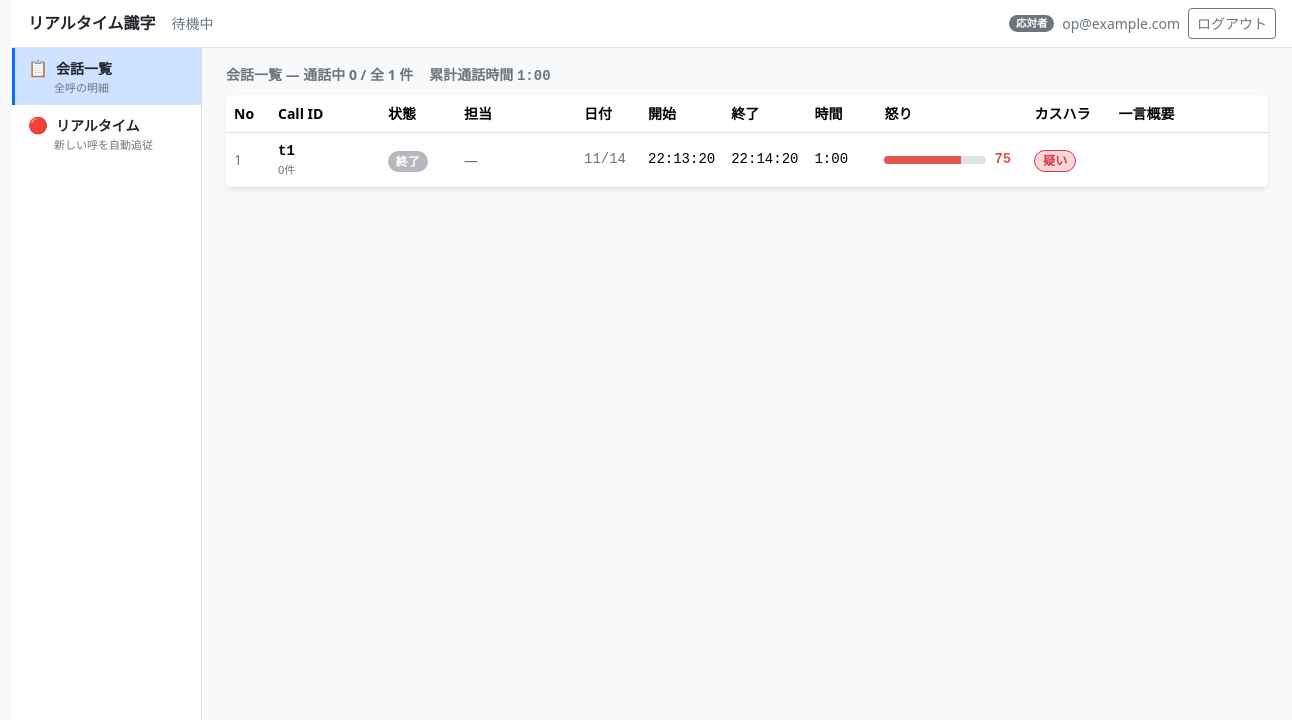
応対者ビュー › アラートが出ても音は鳴らない
Click the button with test id "call-t1": x=747, y=160 [226,132,1268,187]
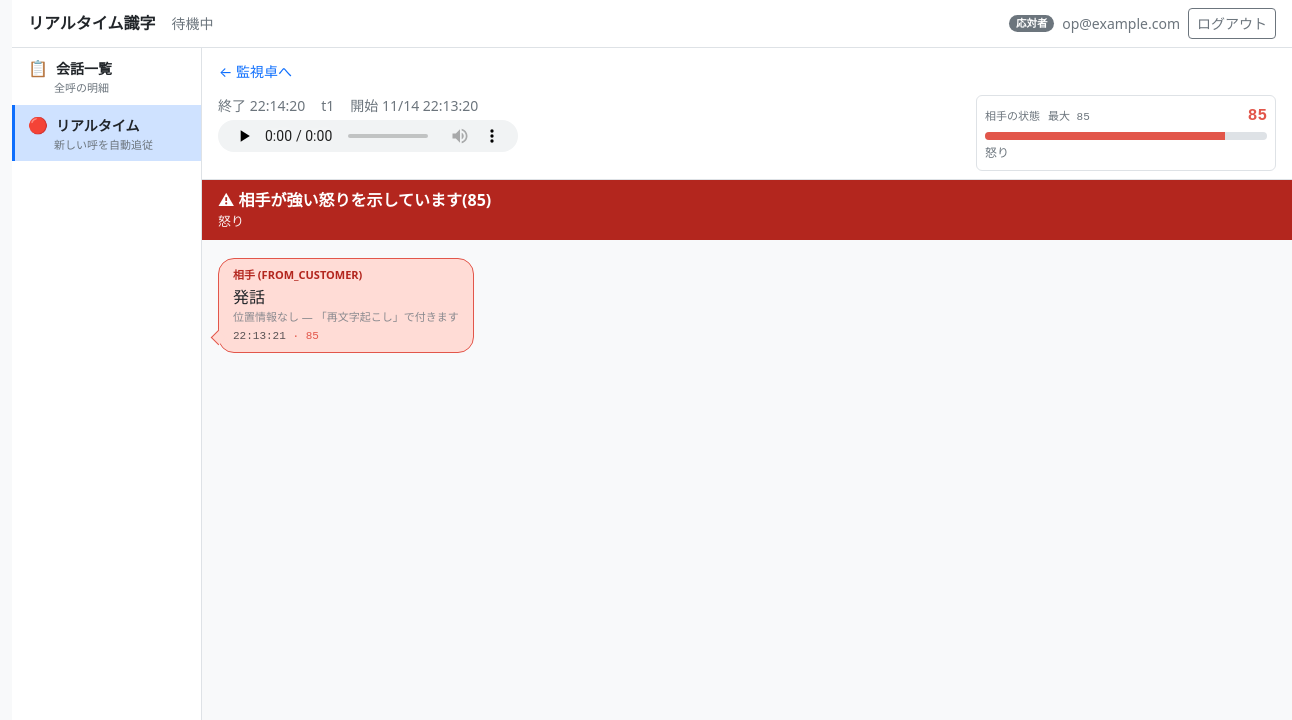
Check: the element with test id "situation" is shown, box [976,95,1276,171]
Check: the element with test id "alert" is shown, box [202,180,1291,240]
